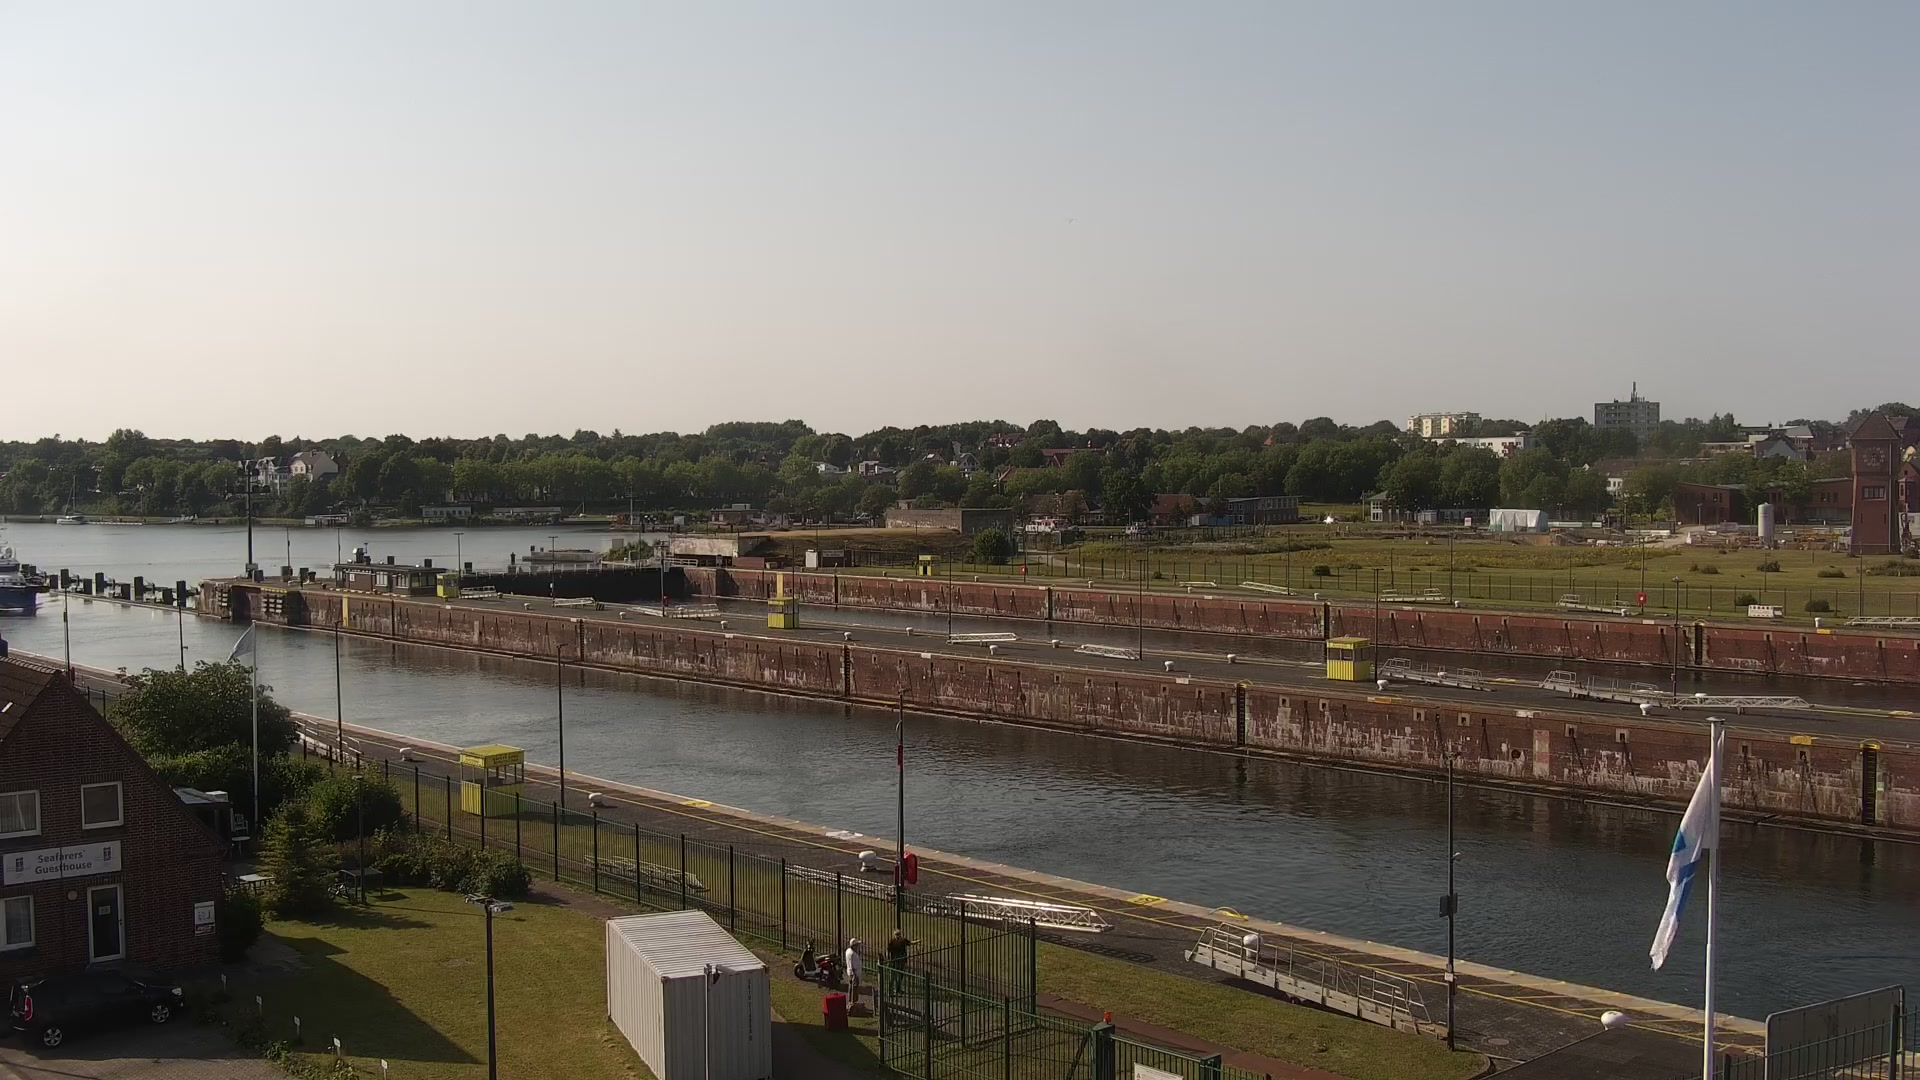human: (884, 926, 918, 998), (843, 934, 862, 1009), (1335, 525, 1341, 536), (1345, 524, 1350, 536)
land: (4, 961, 183, 1047), (792, 936, 843, 989), (856, 512, 871, 521)
sea: (1, 517, 41, 612), (53, 474, 85, 525), (557, 502, 618, 524)
